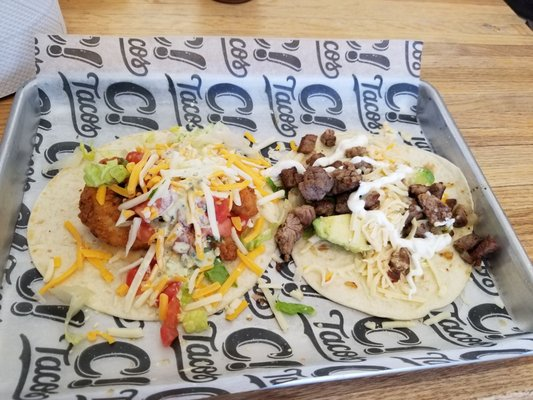curry: (11, 36, 533, 398)
sandwich: (17, 120, 525, 345)
